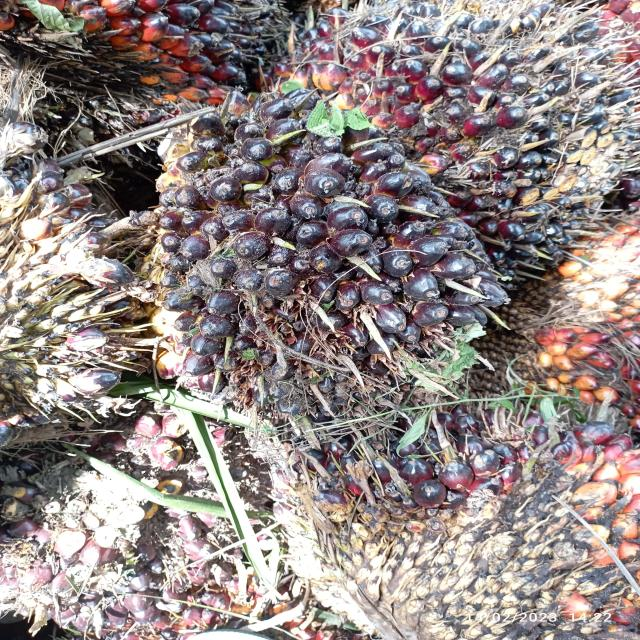fraksi 00: (131, 82, 496, 406)
fraksi 1: (325, 0, 640, 245)
